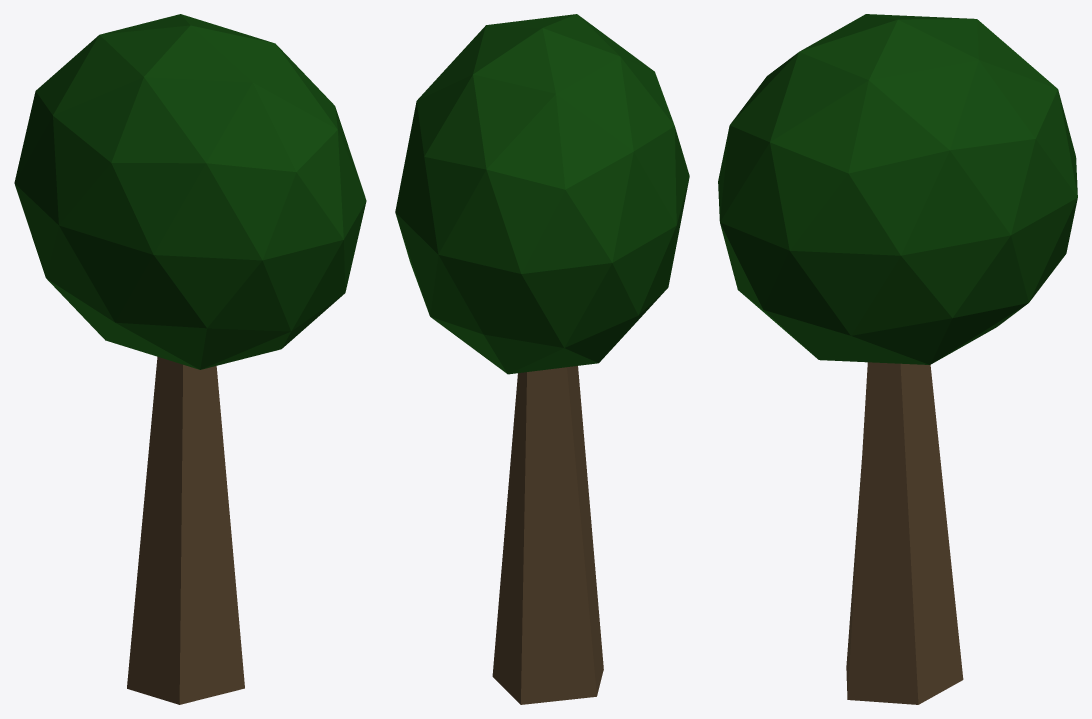
File: realtree.fbx
The picture shows the model from 3 angles, left to right: view 1: azimuth 30°, elevation 25°; view 2: azimuth 150°, elevation 25°; view 3: azimuth 270°, elevation 25°; orthographic projection. The views are drawn at different scales.
Parts seen in each view (by area): view 1: Icosphere.022; view 2: Icosphere.022; view 3: Icosphere.022.
Part boxes in pixels (x1,y1,x2,y2): Icosphere.022: [14, 14, 366, 704]; Icosphere.022: [395, 14, 689, 704]; Icosphere.022: [718, 14, 1077, 704].
Size of the model in its own units: 492 by 1152 by 564.
